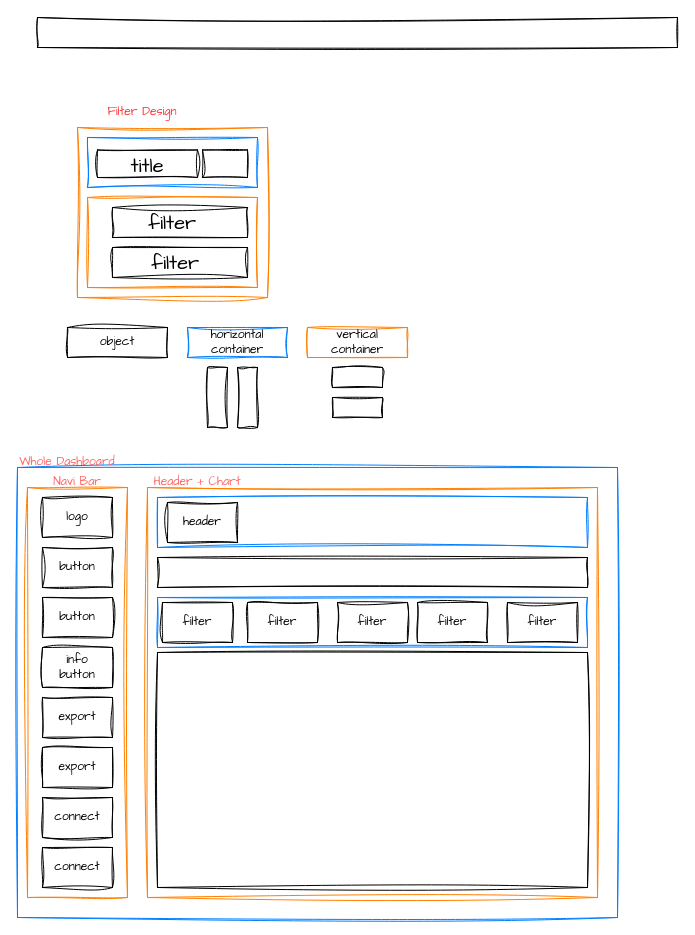
Image size: 695x935. Some labels were removed from this diagram. The centre of each missing label's shape, as x and y in pixels:
"icon" belongs at [225,163].
"list" belongs at [372,770].
"streaming history" belongs at [372,572].
